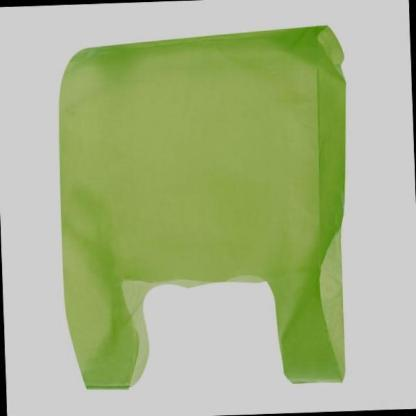Others: (57, 25, 348, 392)
